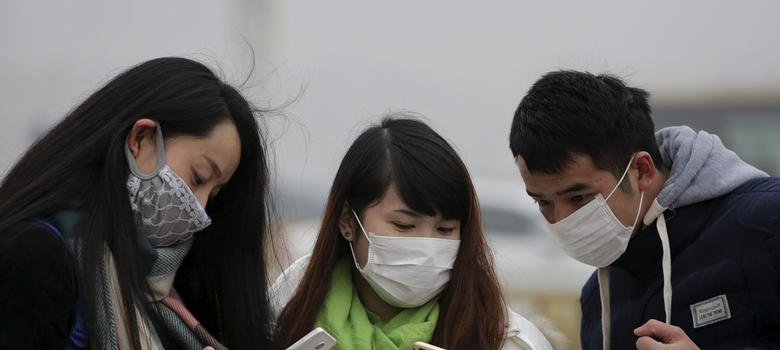mask: (75, 57, 259, 256), (501, 70, 661, 272), (328, 109, 476, 301)
